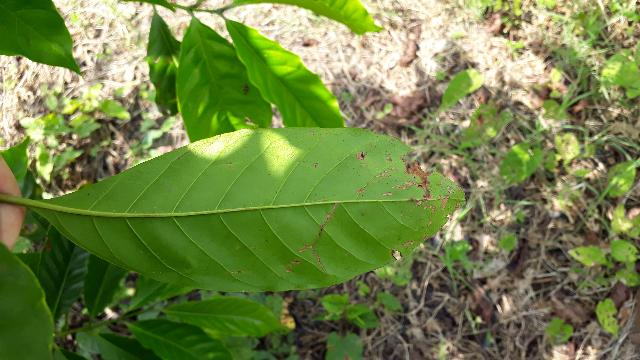red_spider_mite: (31, 126, 467, 292)
